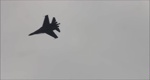maybay_muctieu: (27, 15, 60, 39)
